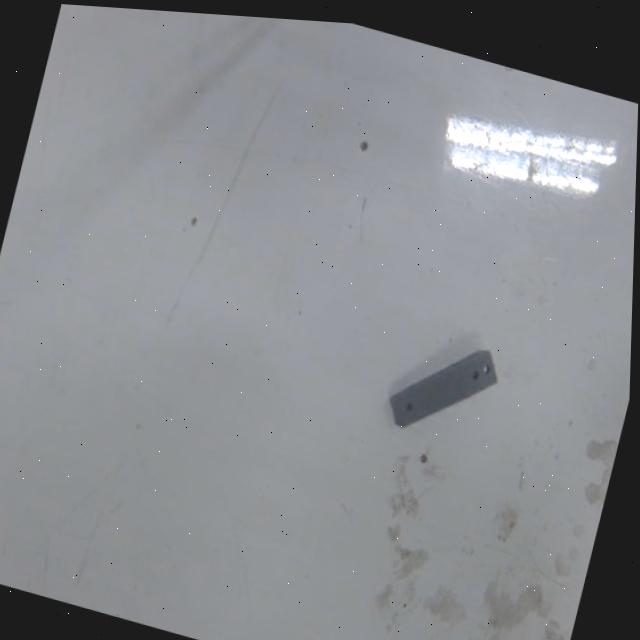grey: (379, 324, 507, 453)
head: (401, 398, 416, 415)
